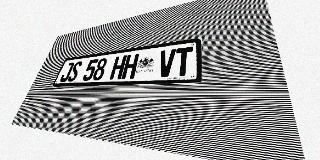5: (82, 59, 99, 81)
8: (91, 58, 109, 81)
H: (121, 53, 139, 79), (109, 55, 127, 80)
J: (59, 62, 75, 82)
S: (67, 61, 83, 82)
T: (174, 46, 193, 76)
V: (157, 49, 176, 77)
